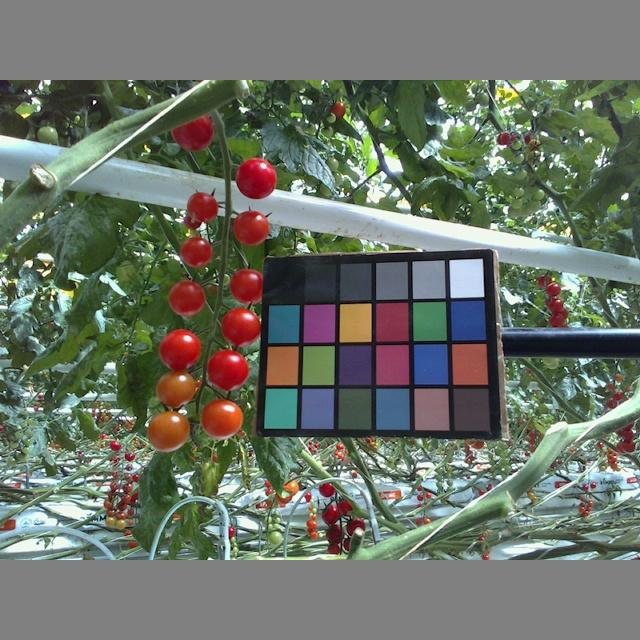pink: (200, 396, 244, 439), (146, 411, 191, 447), (154, 370, 197, 403)
red: (235, 157, 280, 199), (215, 306, 261, 344), (226, 264, 268, 305), (170, 111, 214, 150), (208, 349, 249, 389), (232, 208, 273, 245), (161, 330, 202, 364), (170, 281, 205, 317), (189, 192, 218, 221), (182, 238, 212, 265)
